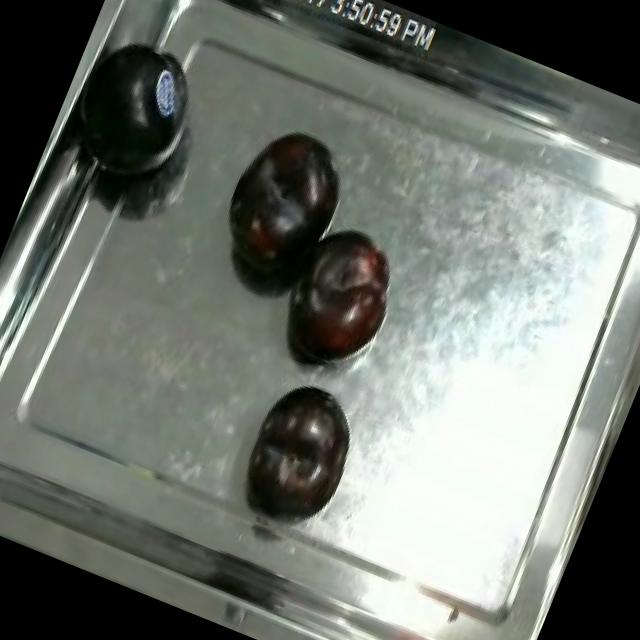Fruit: (55, 21, 216, 202), (202, 108, 358, 294), (263, 210, 412, 386), (224, 364, 372, 538)
